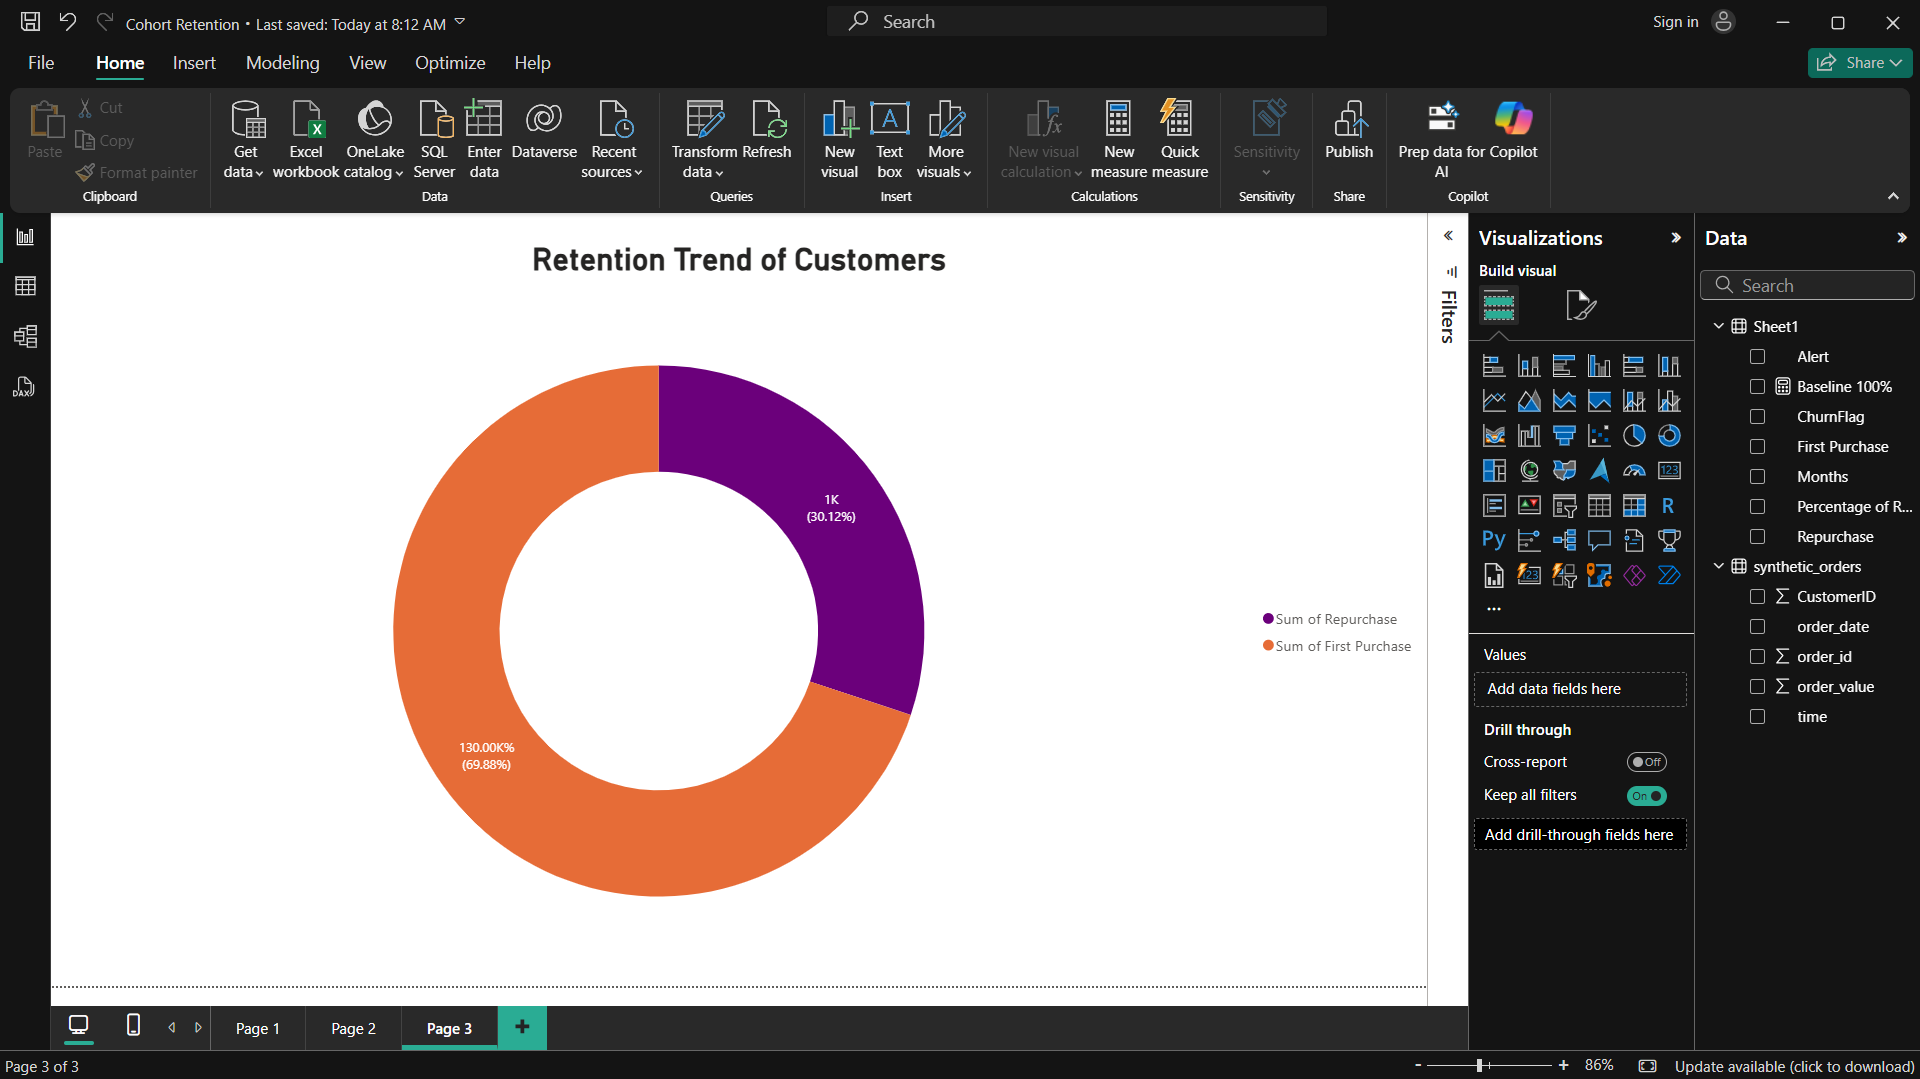

The page's visual inventory and layout, read from the dashboard file:
{"tool":"powerbi","page":{"name":"Page 3","canvas":[1280,720],"ordinal":2},"visuals":[{"type":"donutChart","title":"Retention Trend of Customers","fields":{"Y":["Sum(Sheet1.Month_2)","Sum(Sheet1.Month_0)"]},"box":[0,25.6,1280.2,694.2],"z":0}]}

Visuals, with their boxes on the page's 1280x720 design canvas (x1, y1, x2, y2). These are canvas units, not pixel positions in the 1920x1079 screenshot, which may show the page scaled, cropped or inside an application window:
"Retention Trend of Customers" donutChart: 0, 26, 1280, 720
